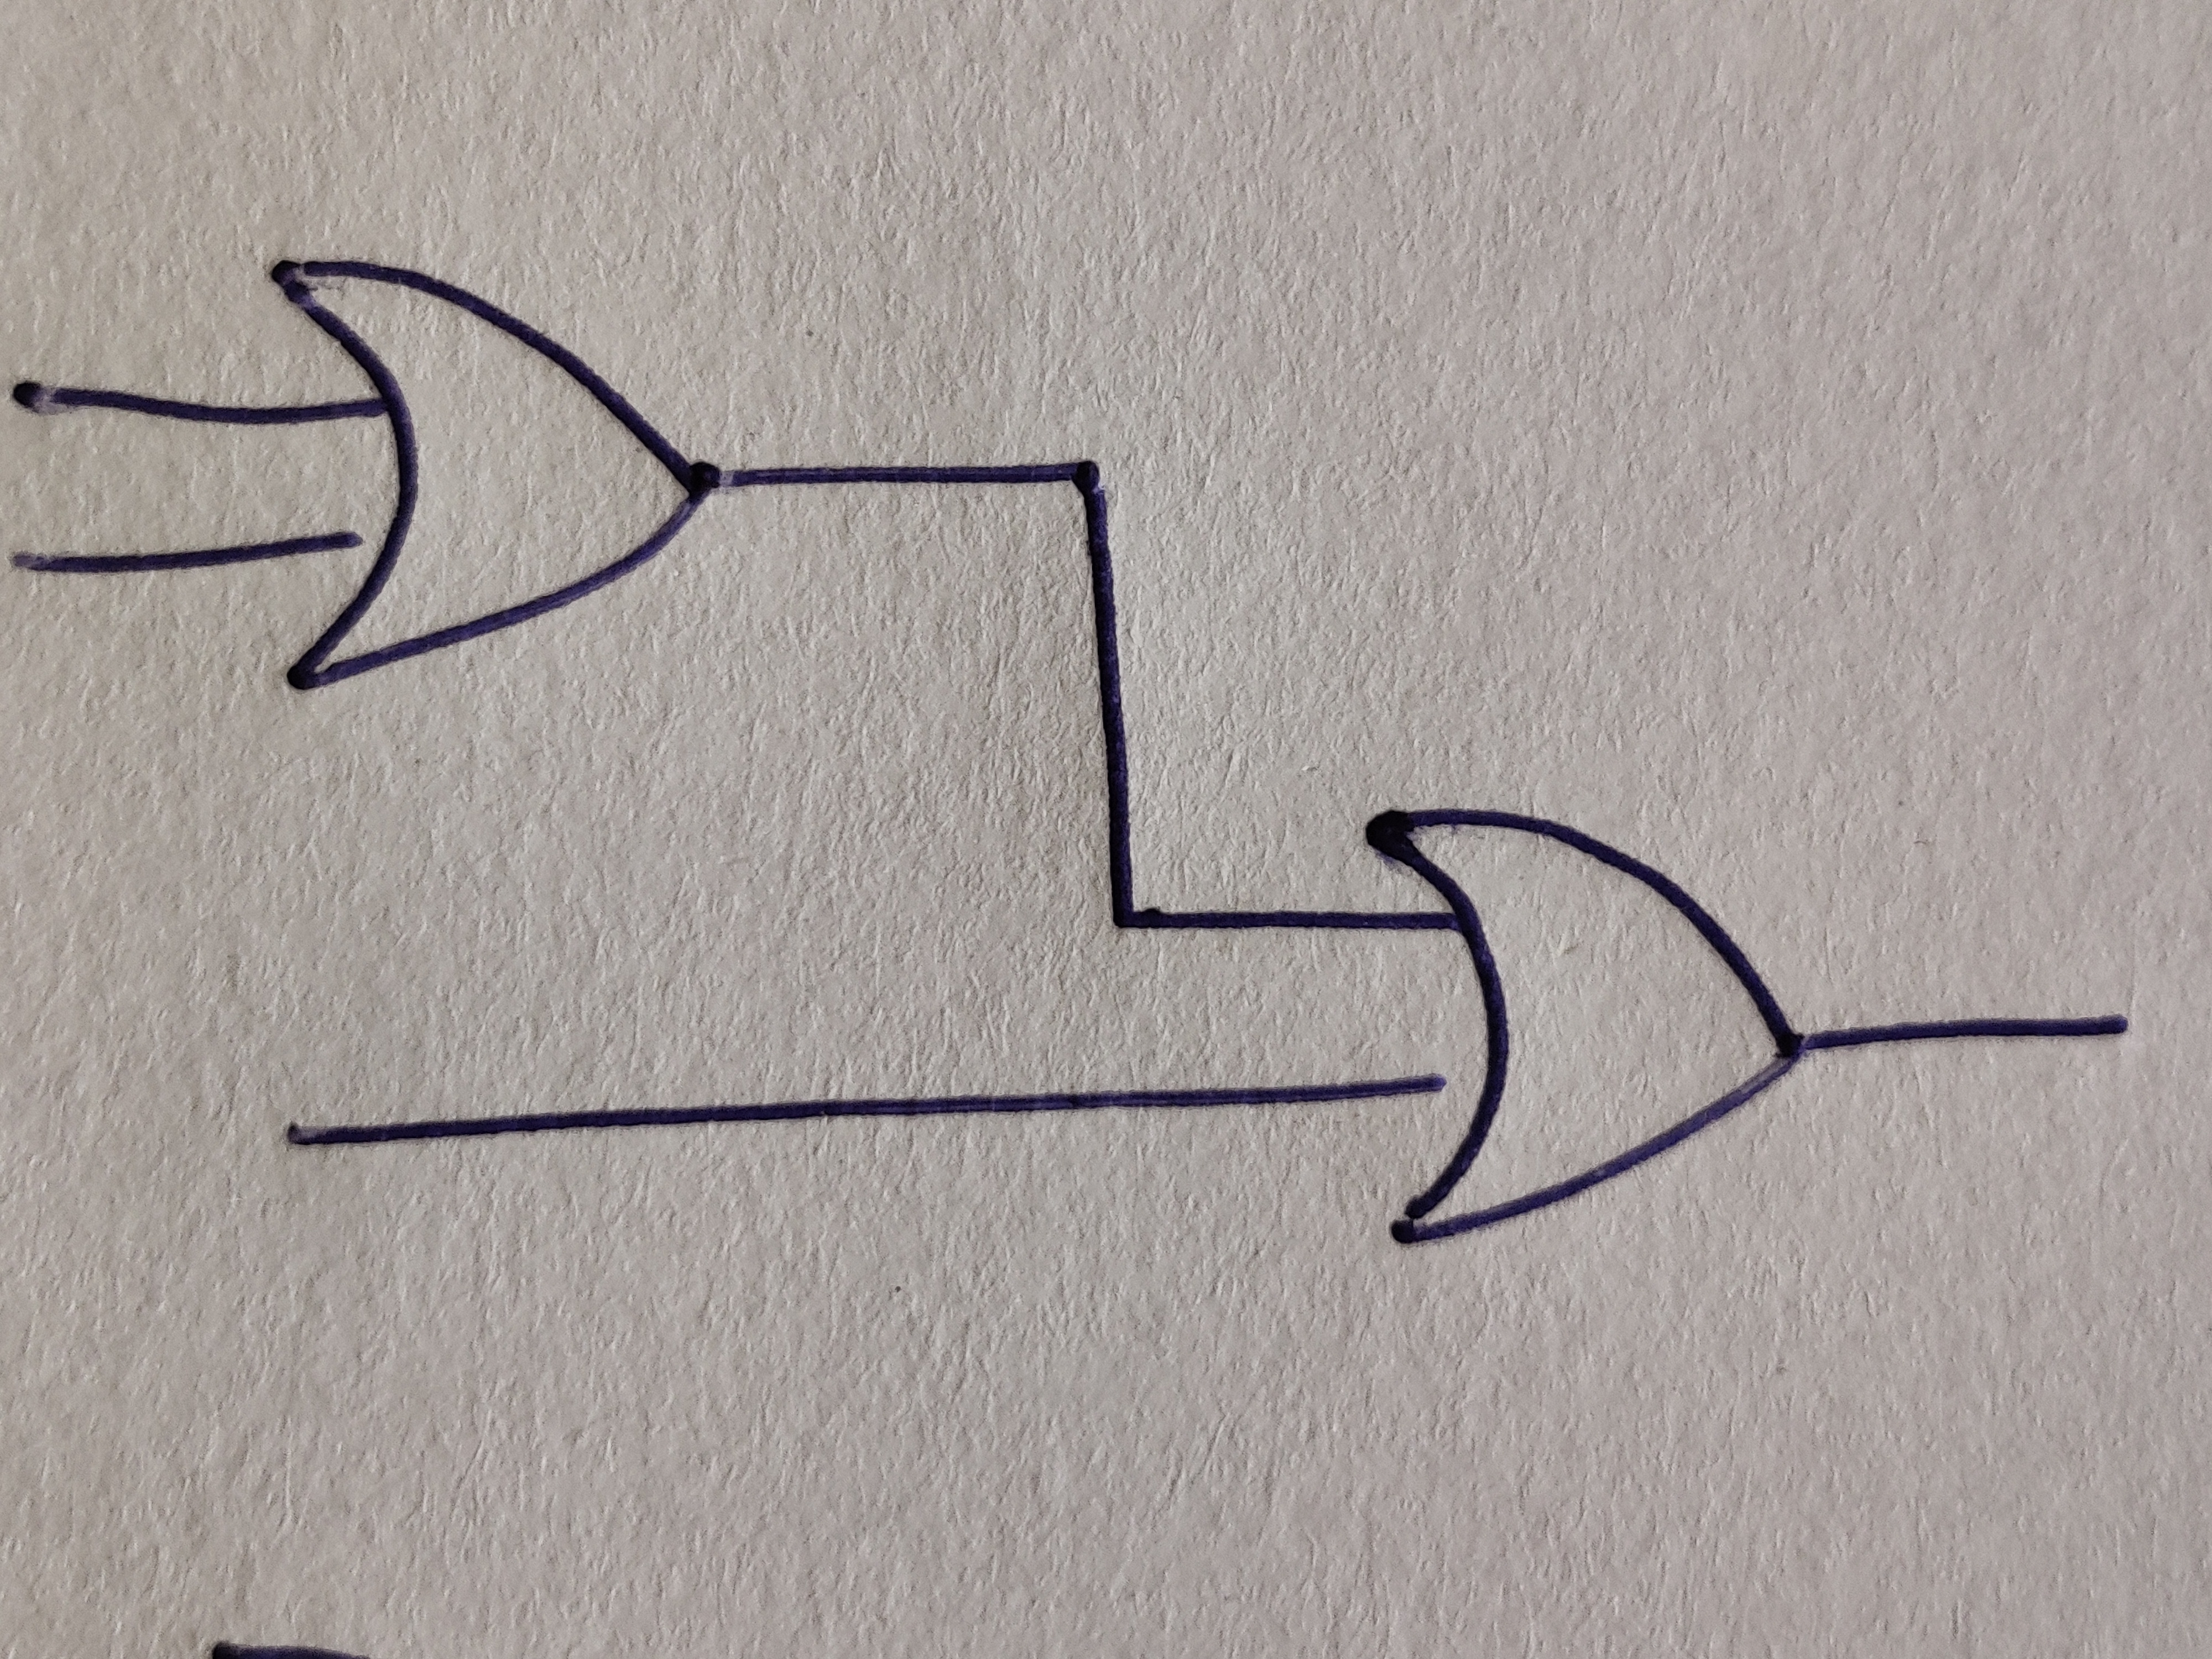or: (273, 260, 721, 692), (1369, 807, 1804, 1248)
